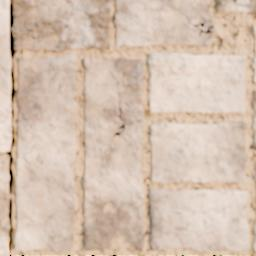brick: (15, 55, 76, 251), (83, 58, 143, 249), (149, 189, 248, 251), (150, 122, 246, 183), (148, 53, 245, 112), (12, 0, 109, 51), (113, 0, 214, 45), (0, 0, 9, 151), (0, 156, 8, 255), (216, 0, 255, 13), (252, 24, 255, 82), (252, 91, 255, 148), (254, 238, 255, 250)
crack: (2, 0, 253, 255), (178, 7, 215, 36)
